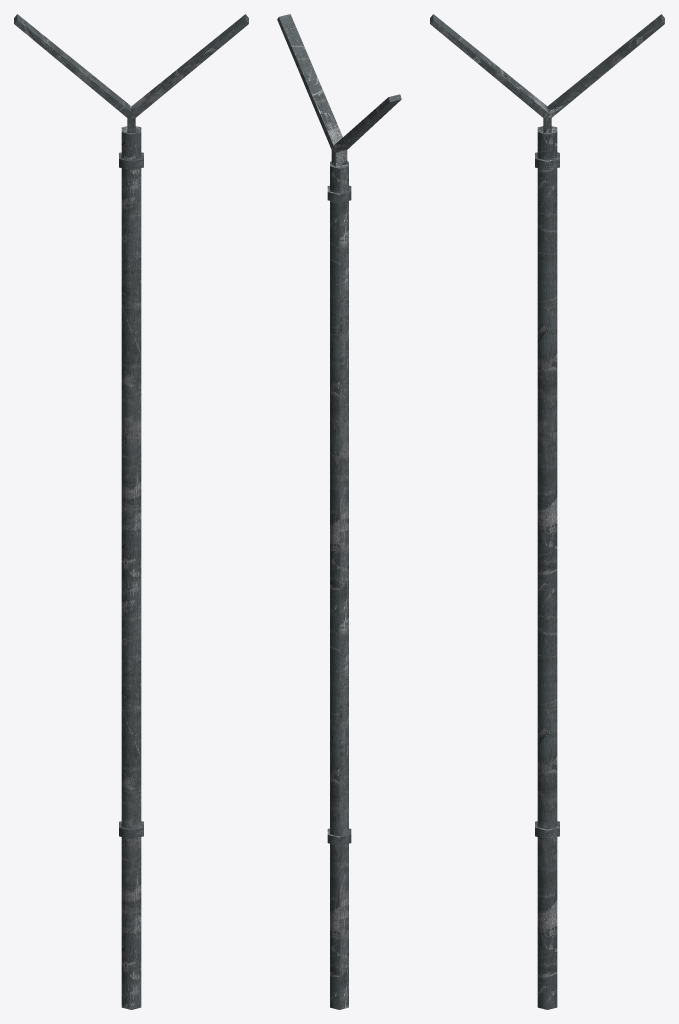
File: Wirepole.fbx
3 renders of one model, left to right at view 1: azimuth 90°, elevation 25°; view 2: azimuth 210°, elevation 25°; view 3: azimuth 270°, elevation 25°, orthographic. The views are drawn at different scales.
Visible parts, largest first — view 1: polySurface155; view 2: polySurface155; view 3: polySurface155.
Boxes of the visible parts, x1,y1,x2,y2 form: polySurface155: (14,14,248,1009); polySurface155: (277,14,401,1009); polySurface155: (430,14,664,1009).
Bounding box in the file's own units: 0.1007 × 3.84 × 0.8268.
Materials: 1 (1 with a texture image).
